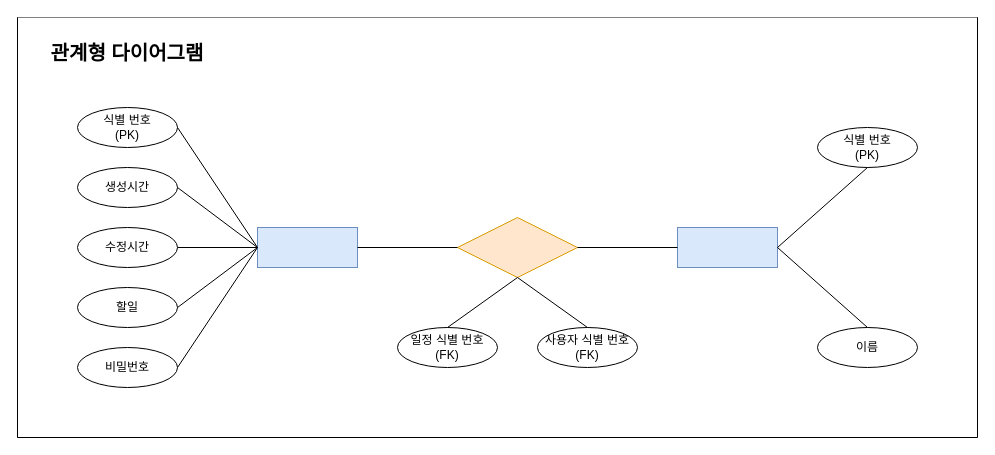
Some shapes in this 995 by 455 pixel diagram are drawn without their labels. Here are the shapes that lost their labels. From the top down, the box of each, then its label:
(256, 226, 358, 268): 일정
(456, 216, 578, 278): 작성
(676, 226, 778, 268): 사용자
